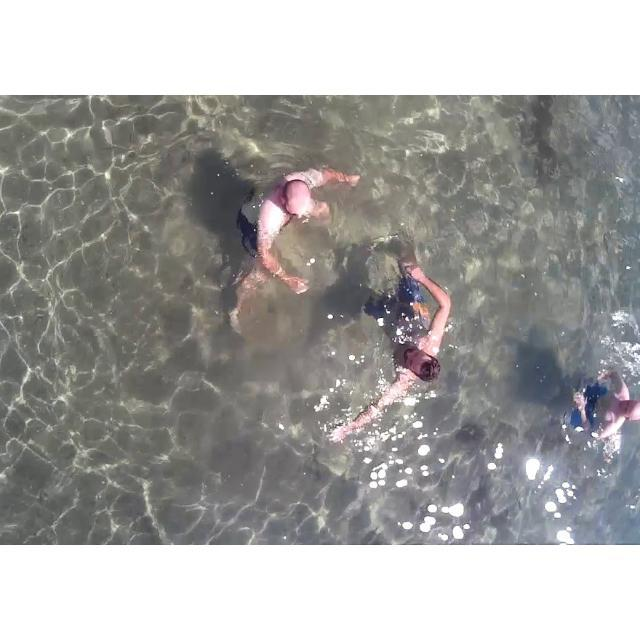human: (334, 246, 451, 459), (240, 160, 367, 303), (559, 337, 637, 449)
